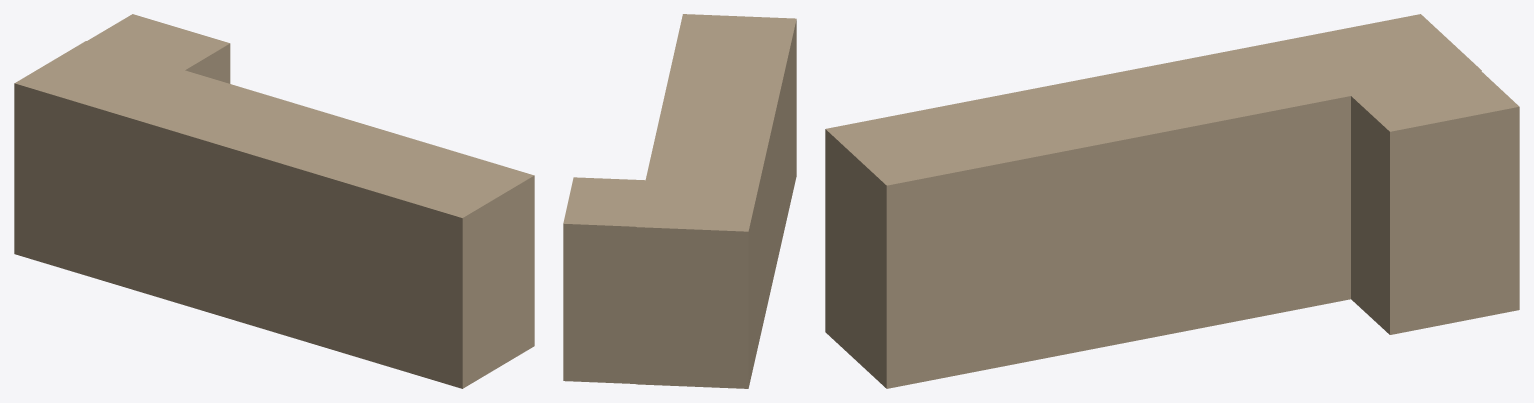
The model's file is bld_108401225.dae.
The picture shows the model from 3 angles, left to right: view 1: azimuth 30°, elevation 25°; view 2: azimuth 150°, elevation 25°; view 3: azimuth 270°, elevation 25°; orthographic projection. The views are drawn at different scales.
Parts seen in each view (by area): view 1: bld_108401225; view 2: bld_108401225; view 3: bld_108401225.
Part boxes in pixels (bbox=[...]): bld_108401225: bbox=[14, 14, 534, 388]; bld_108401225: bbox=[563, 14, 796, 388]; bld_108401225: bbox=[825, 14, 1519, 388].
Bounding box in the file's own units: 14.49 × 24.76 × 8.
